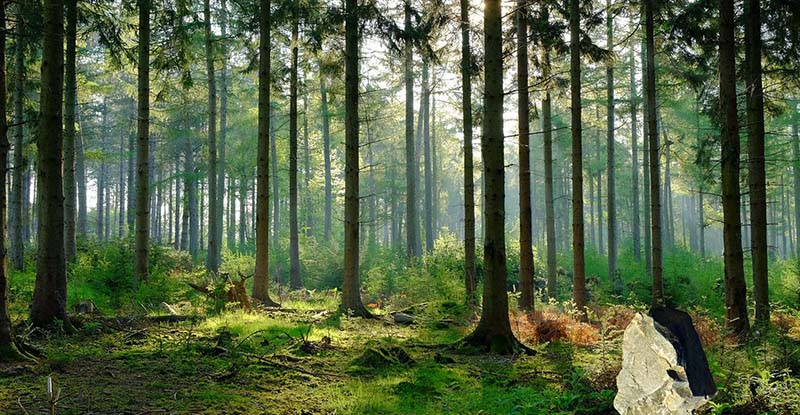Rocks: (600, 301, 720, 415)
